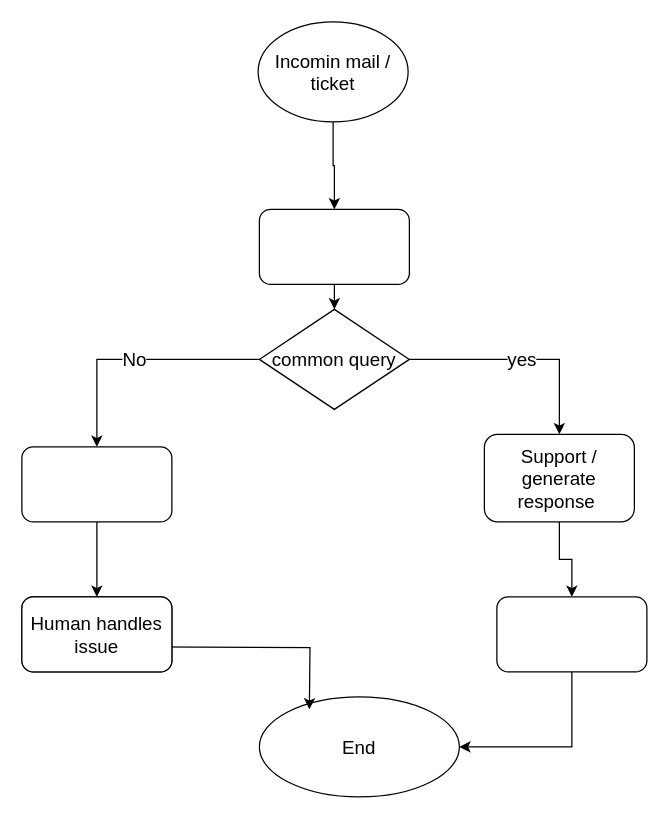
Image size: 669x819. Some labels were removed from this diagram. The box of each missing label's shape, as (x1, y1, x2, y2) in pixels:
AI analyze and categorize: (258, 208, 409, 284)
Route to human: (21, 446, 172, 522)
Send response: (496, 596, 647, 672)
